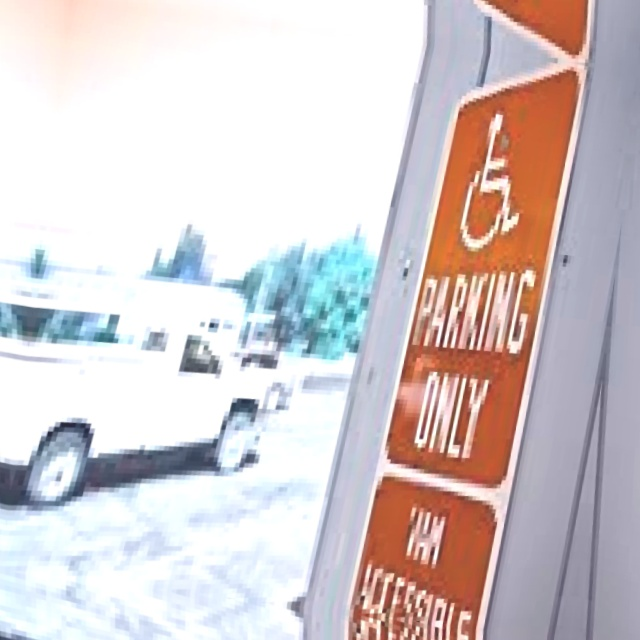ISA: (453, 110, 538, 257)
